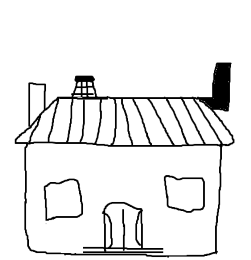bottom_placed_house: (2, 1, 251, 260)
chimney: (192, 57, 236, 123), (67, 63, 102, 106), (25, 79, 54, 126)
door: (97, 195, 153, 257)
open_window: (154, 164, 211, 215), (38, 176, 91, 230)
roof: (9, 86, 238, 156)
wall: (20, 136, 222, 259)
